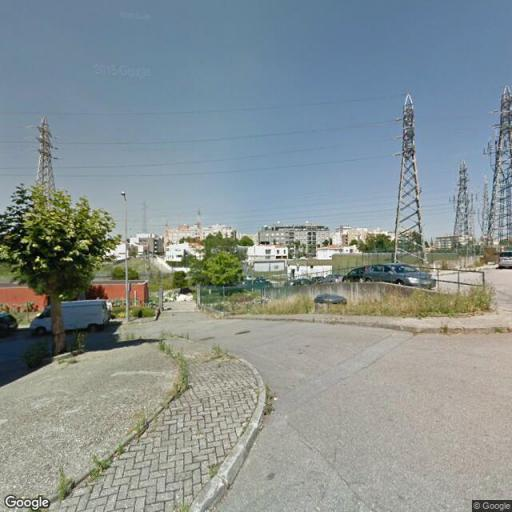ss_3: (391, 93, 429, 269), (489, 86, 511, 240), (26, 112, 60, 204), (452, 161, 474, 241)
